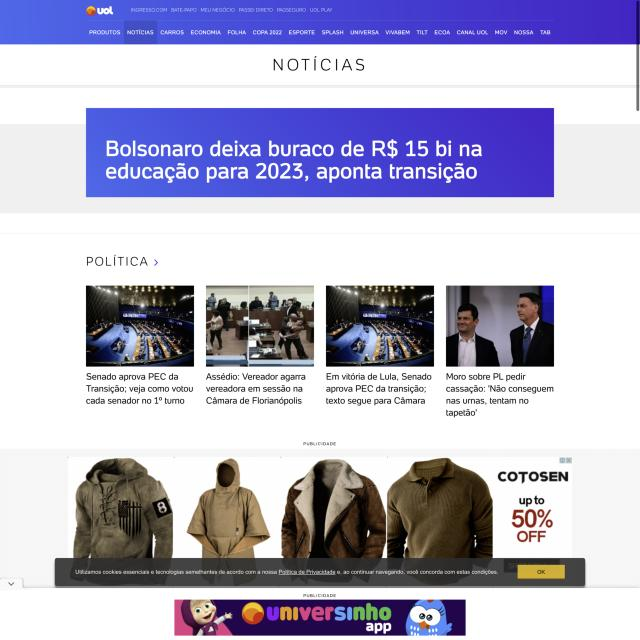logo: (85, 2, 115, 19)
navigation: (130, 6, 334, 13)
